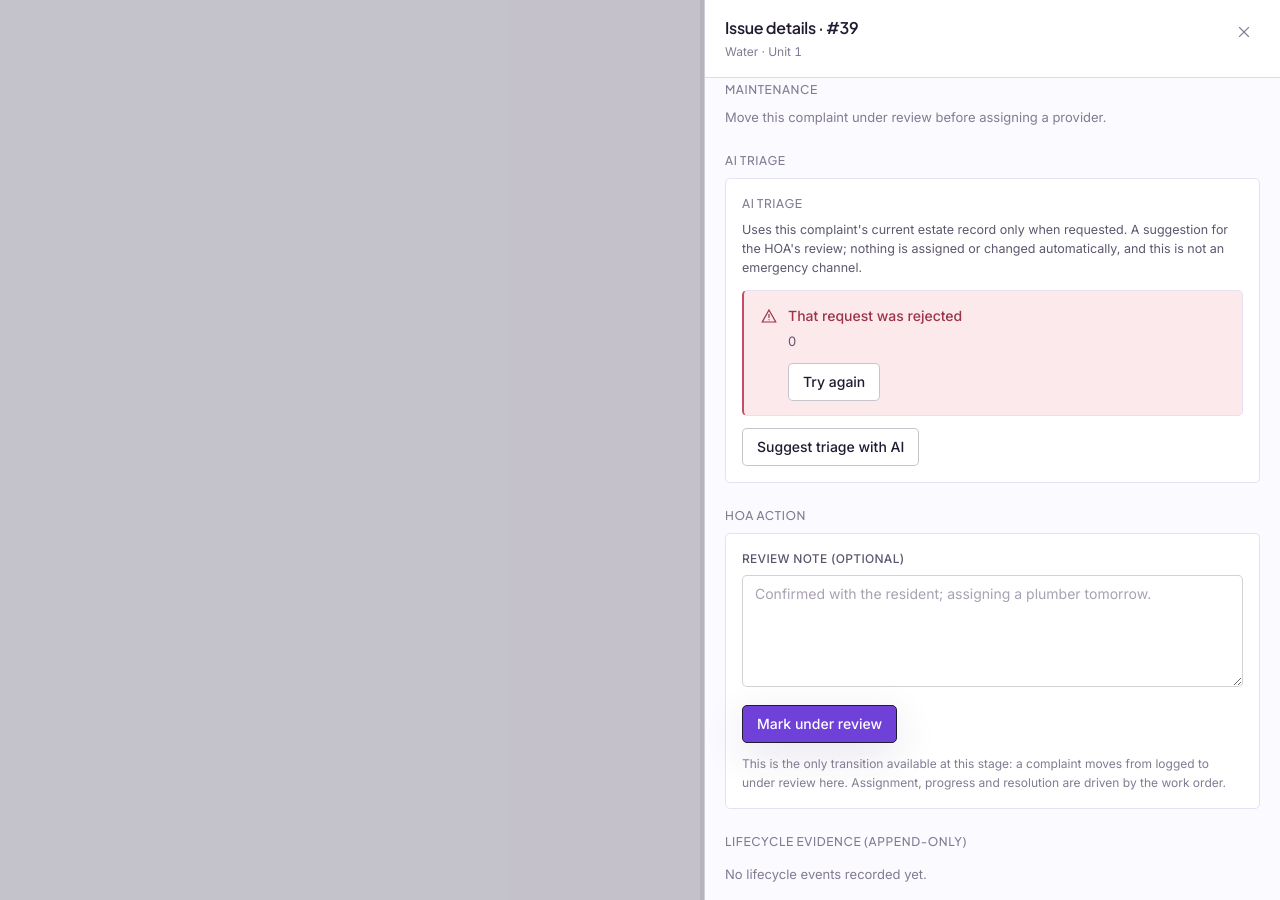
Test: ComplaintDrawer — after a status change › re-reads the complaint and offers the assignment step
(page scrolled)
Click the button "Mark under review": {"x": 820, "y": 724} x1=742 y1=705 x2=897 y2=743
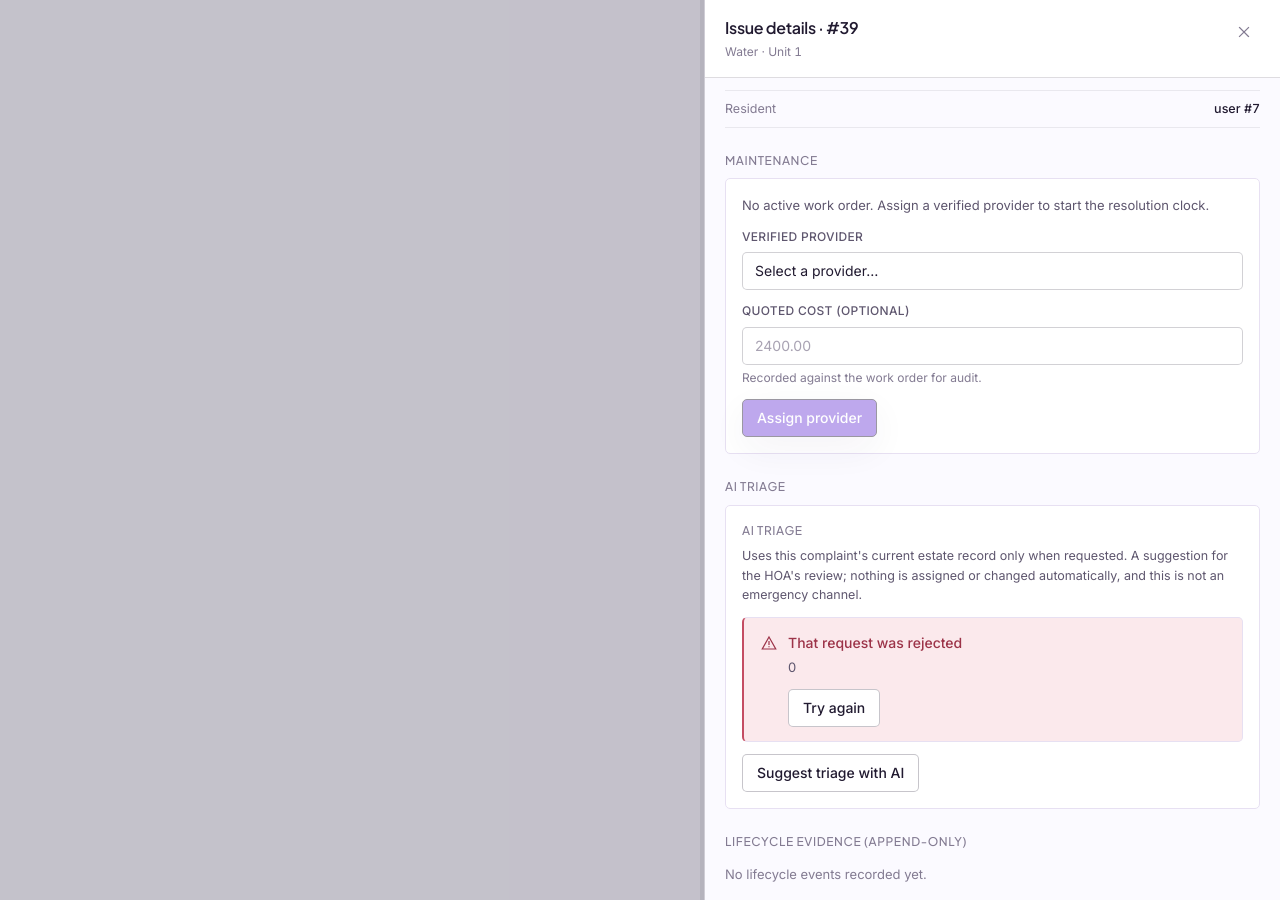
Check: the dropdown labelled "Verified provider" is shown, box x1=742 y1=252 x2=1243 y2=290
Check: the text "Move this complaint under review" is gone
